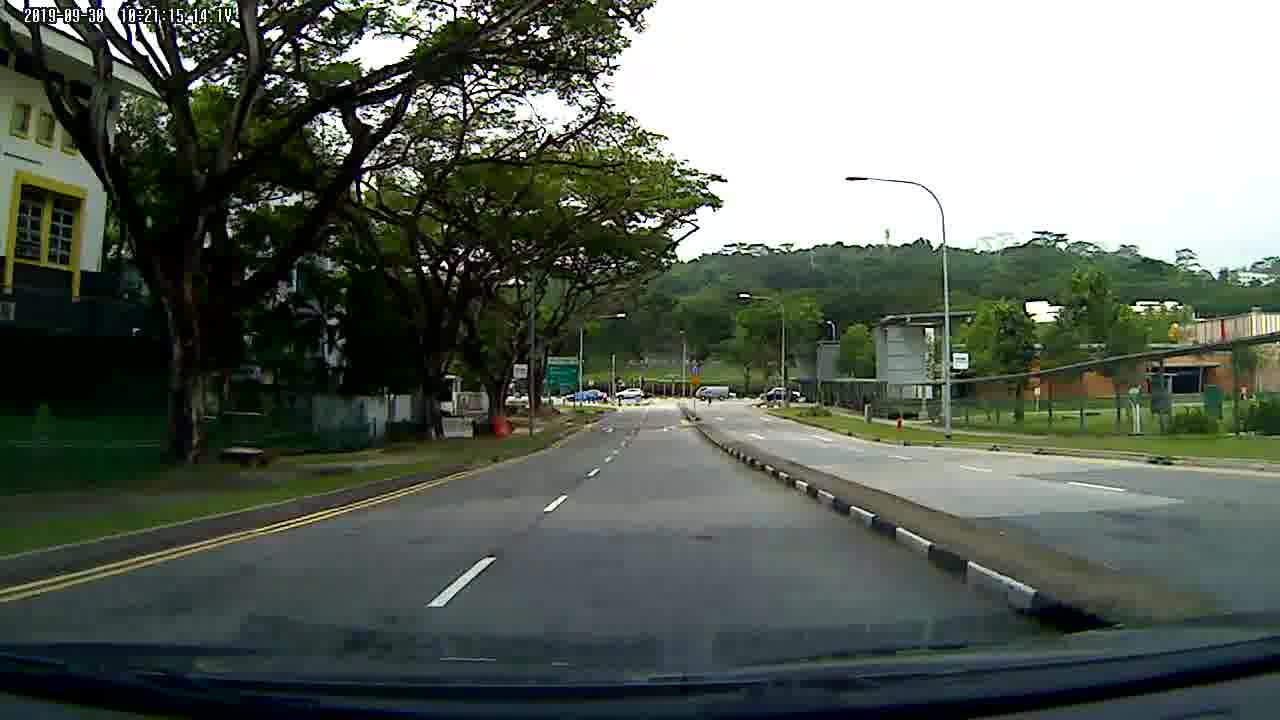car: (613, 387, 646, 401)
